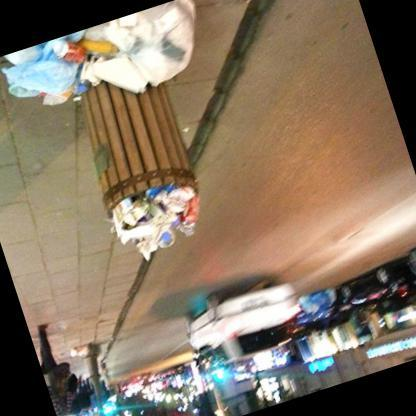Garbage: (83, 0, 215, 111), (0, 28, 113, 136), (104, 177, 215, 271), (114, 0, 207, 94), (1, 28, 104, 102), (94, 42, 148, 104), (132, 219, 179, 262), (106, 192, 152, 235), (116, 210, 158, 246), (36, 78, 74, 112), (160, 184, 203, 214), (177, 197, 211, 231), (148, 176, 184, 200), (74, 76, 97, 106)
